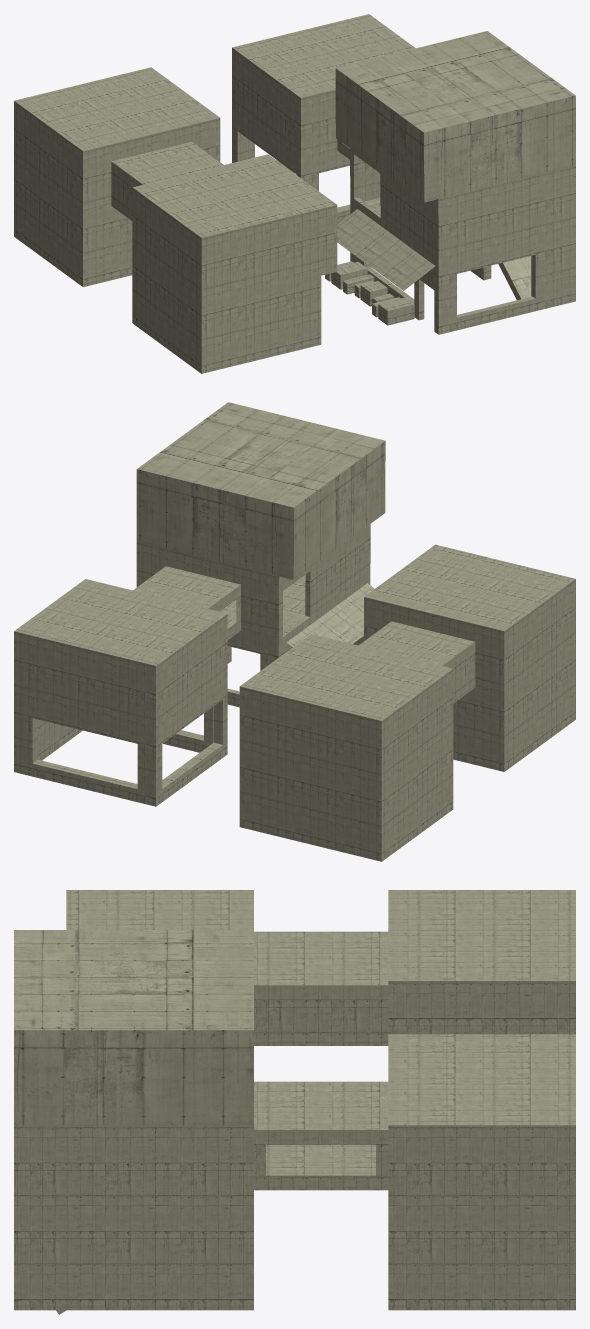
File: SM_NeoLD_15_Block_01.fbx
The picture shows the model from 3 angles, top to bottom: view 1: azimuth 30°, elevation 25°; view 2: azimuth 150°, elevation 25°; view 3: azimuth 270°, elevation 25°; orthographic projection. The views are drawn at different scales.
Parts seen in each view (by area): view 1: SM_NeoLD_15_Block_01; view 2: SM_NeoLD_15_Block_01; view 3: SM_NeoLD_15_Block_01.
Boxes of the visible parts, left/top/right/bottom form: SM_NeoLD_15_Block_01: left=14, top=14, right=575, bottom=373; SM_NeoLD_15_Block_01: left=14, top=402, right=575, bottom=861; SM_NeoLD_15_Block_01: left=14, top=890, right=575, bottom=1314.
Size of the model in its own units: 3249 by 1850 by 3277.
